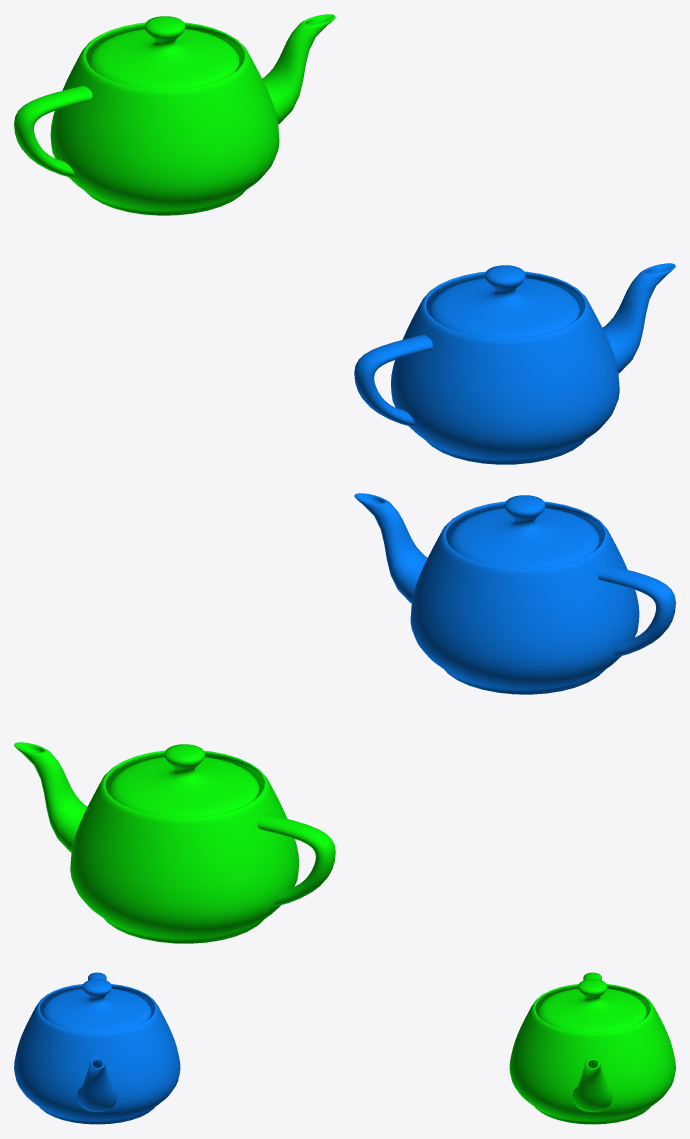
File: ExporterTestScene.fbx
3 views of the same model, one above another, from view 1: azimuth 30°, elevation 25°; view 2: azimuth 150°, elevation 25°; view 3: azimuth 270°, elevation 25° (orthographic). The views are drawn at different scales.
Visible parts, largest first — view 1: Teapot_green, Teapot_blue; view 2: Teapot_blue, Teapot_green; view 3: Teapot_blue, Teapot_green.
Part boxes in pixels (x1=…): Teapot_green: x1=14, y1=14, x2=335, y2=215; Teapot_blue: x1=354, y1=263, x2=675, y2=464; Teapot_blue: x1=354, y1=493, x2=675, y2=694; Teapot_green: x1=14, y1=742, x2=335, y2=943; Teapot_blue: x1=14, y1=972, x2=180, y2=1124; Teapot_green: x1=509, y1=972, x2=675, y2=1124.
Bounding box in the file's own units: 89.47 × 43.81 × 221.
